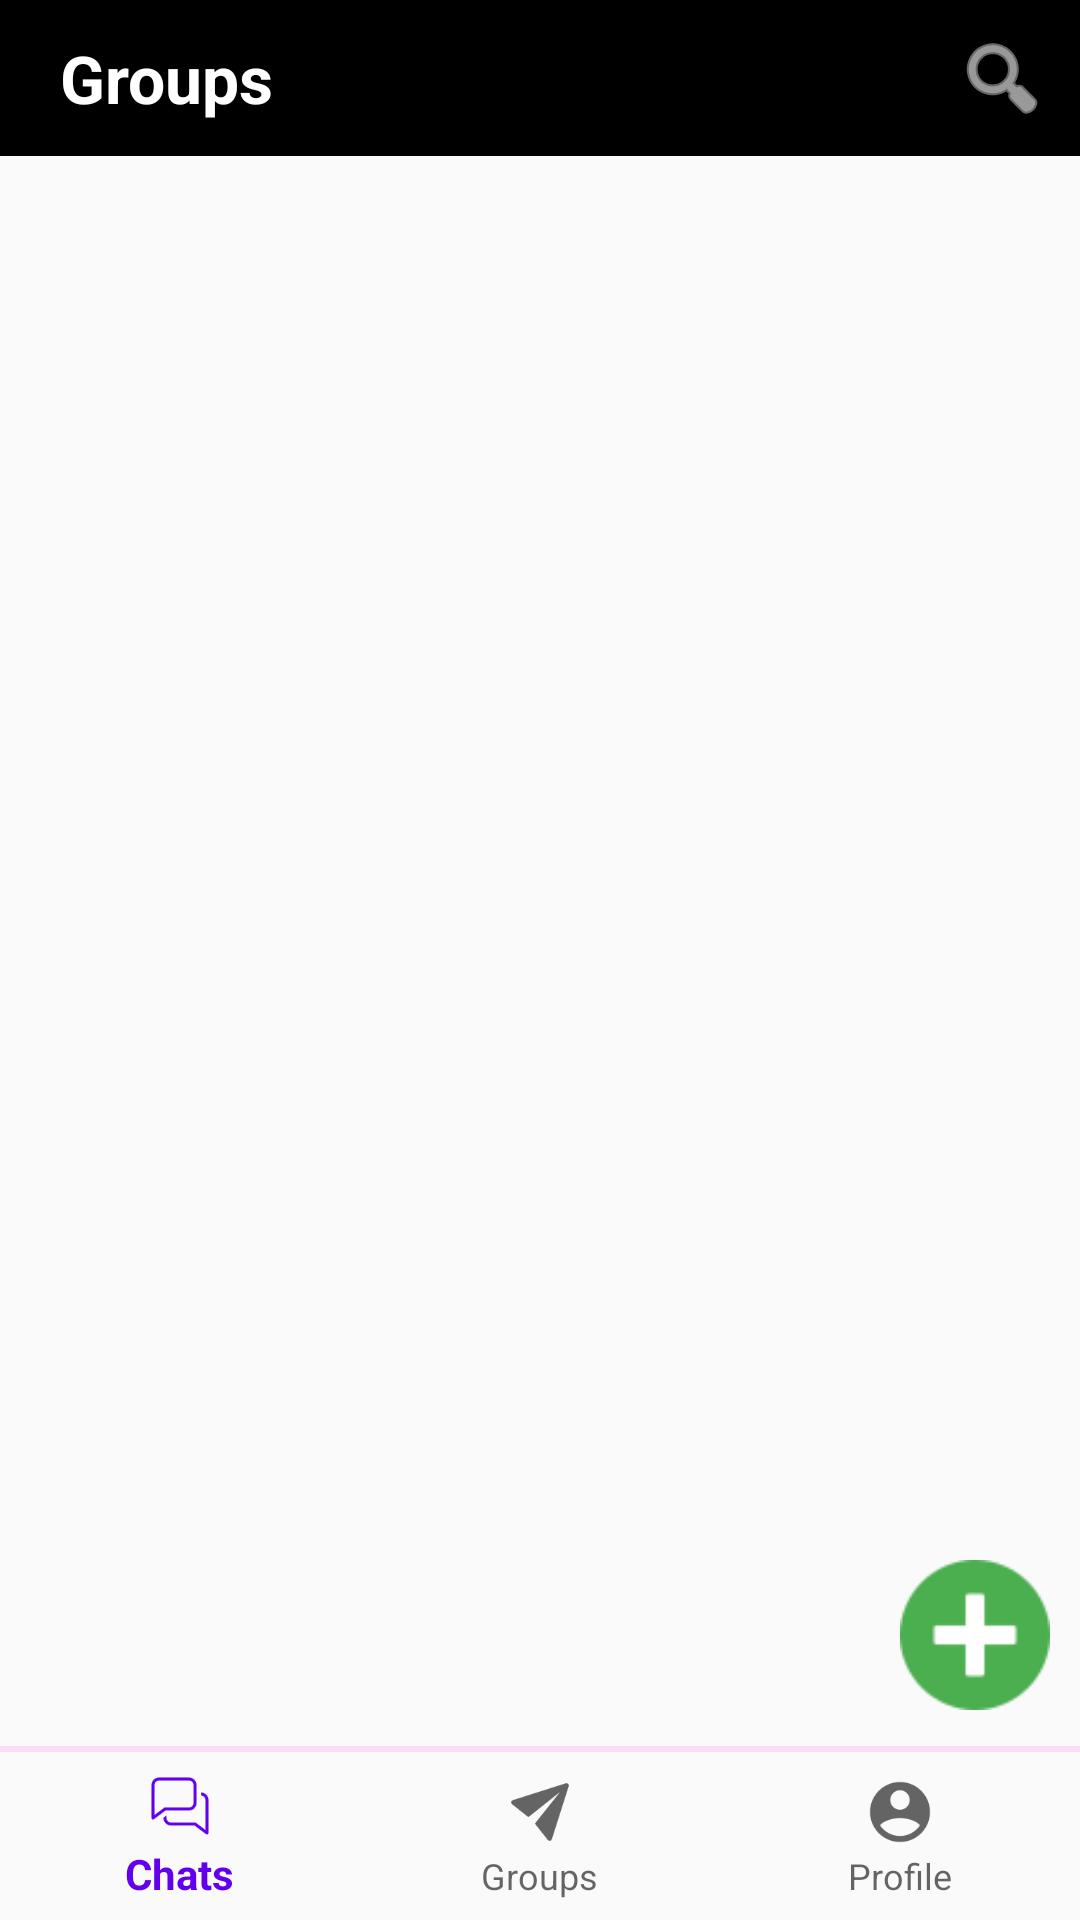

Icons on this 1080w x 1920h Android screen, each with the point to tap as (x=x, y=y):
plus: (x=975, y=1635)
search: (x=1002, y=78)
